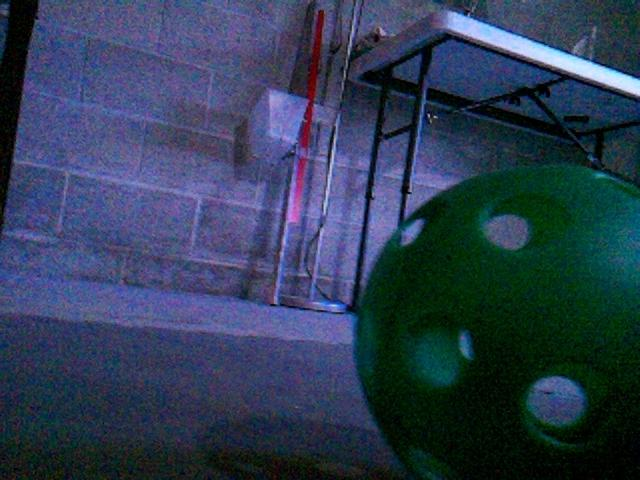Green: (352, 164, 640, 479)
